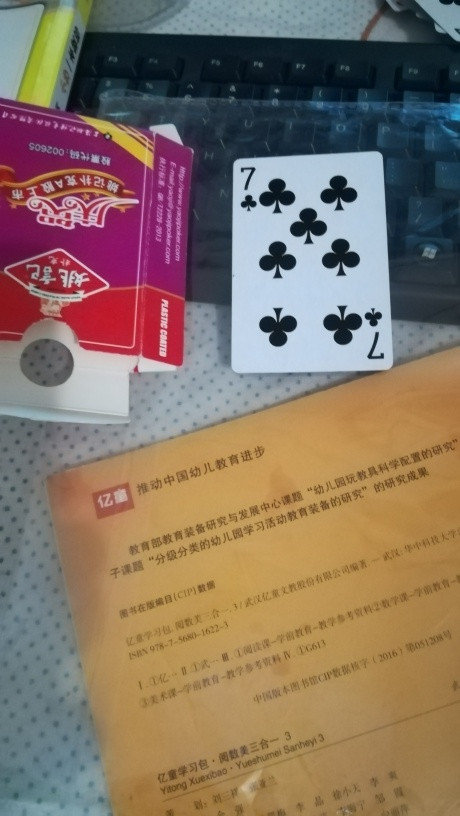mh 7: (229, 151, 395, 373)
